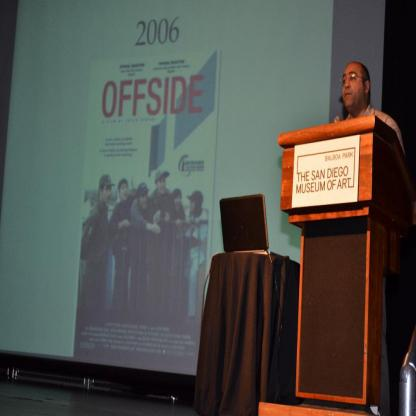board: (216, 190, 280, 268)
